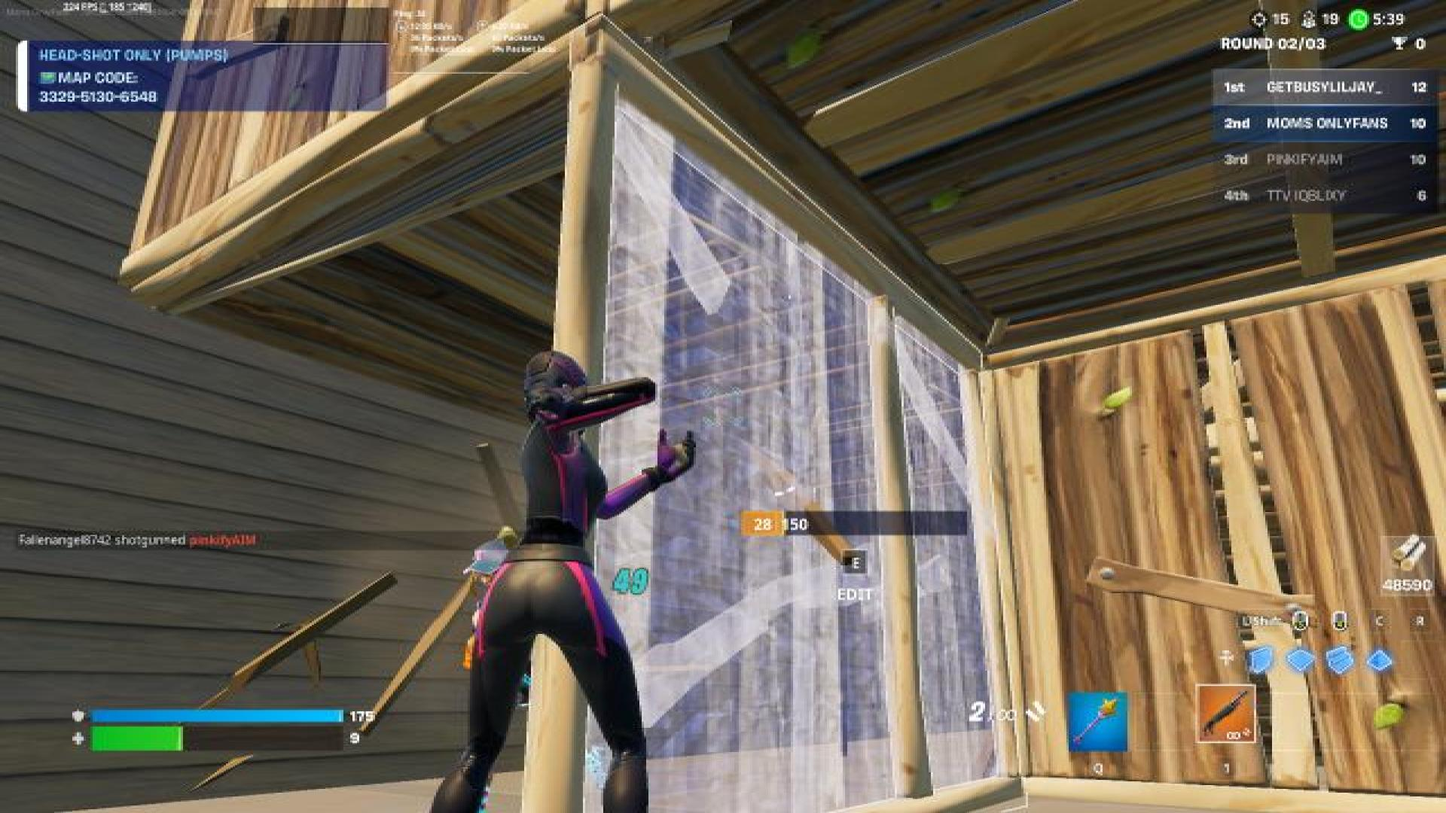player: (450, 537, 513, 583)
